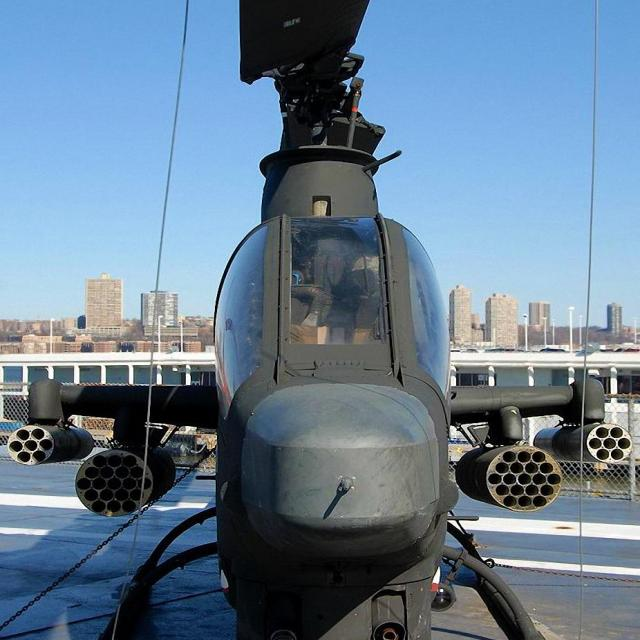MIL_HELO: (20, 0, 639, 634)
